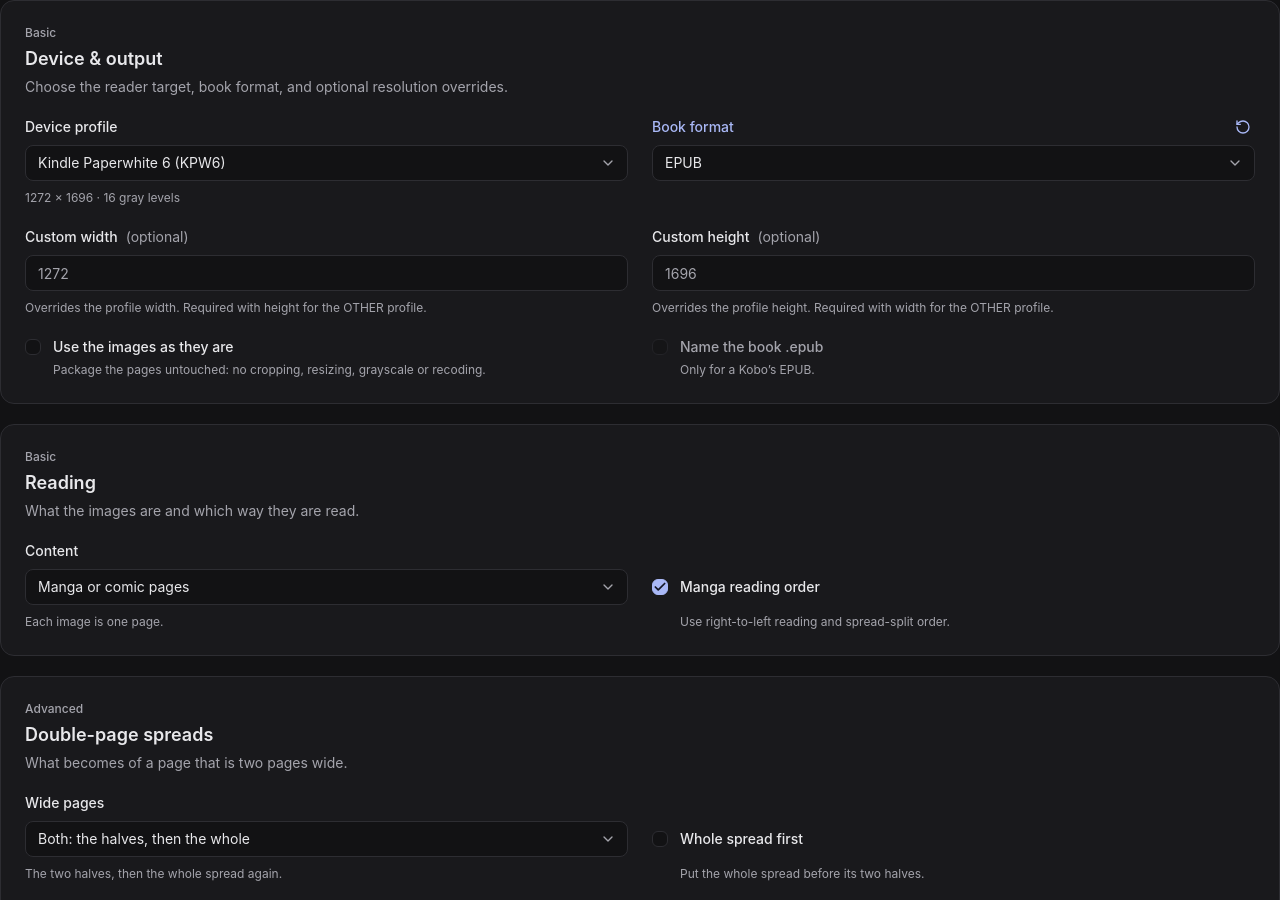
Scenario: mangaprep settings editor › has nothing to rotate while the whole spread stays upright
What coordinates should you click on to do the following:
click the checkbox named "Whole spread first" next to "Whole spread first"
I would click on:
 (660, 839)
Its box is [652, 831, 668, 847].
(page scrolled)
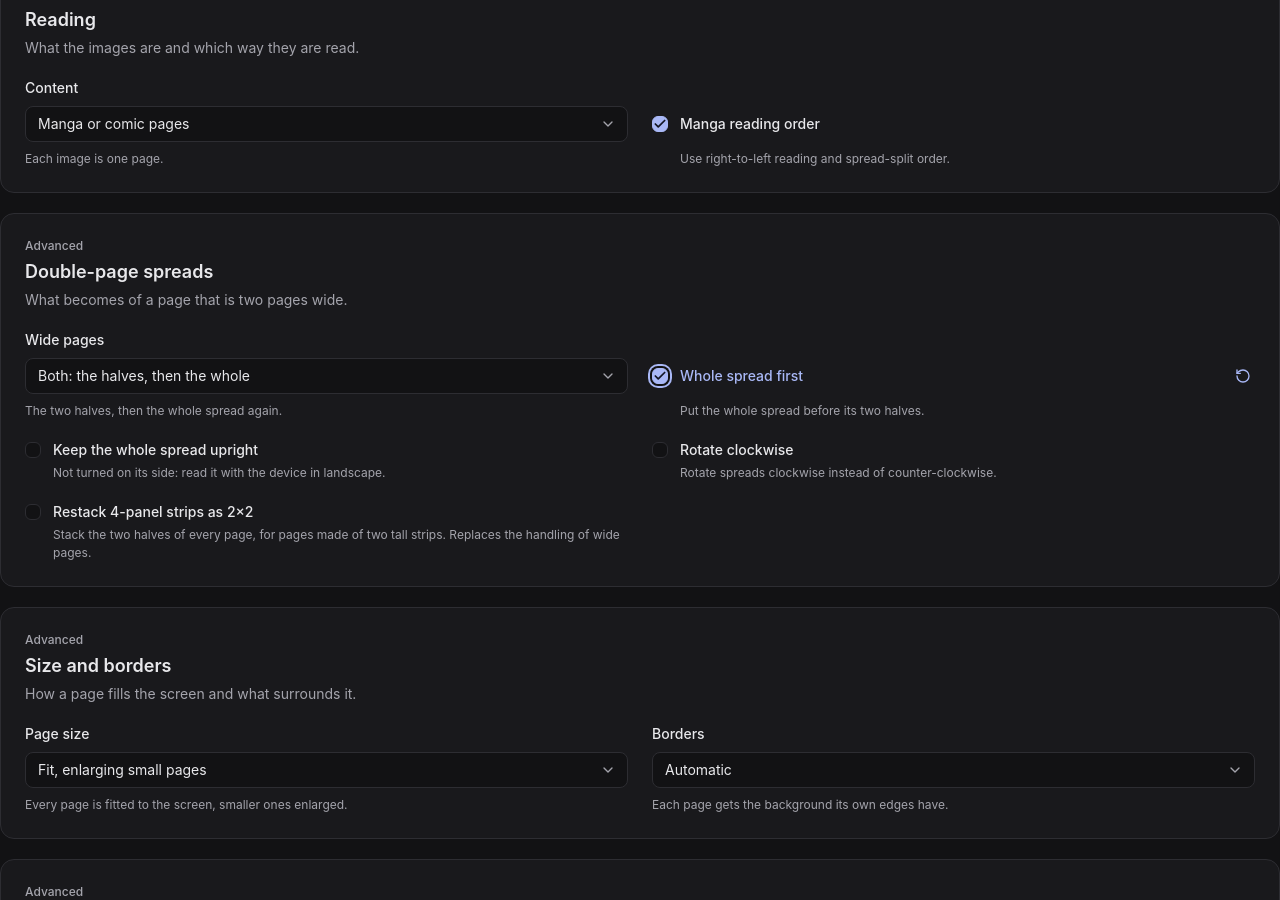
What coordinates should you click on to do the following:
click the checkbox named "Keep the whole spread upright" next to "Keep the whole spread upright"
I would click on:
 (33, 450)
Its box is [25, 442, 41, 458].
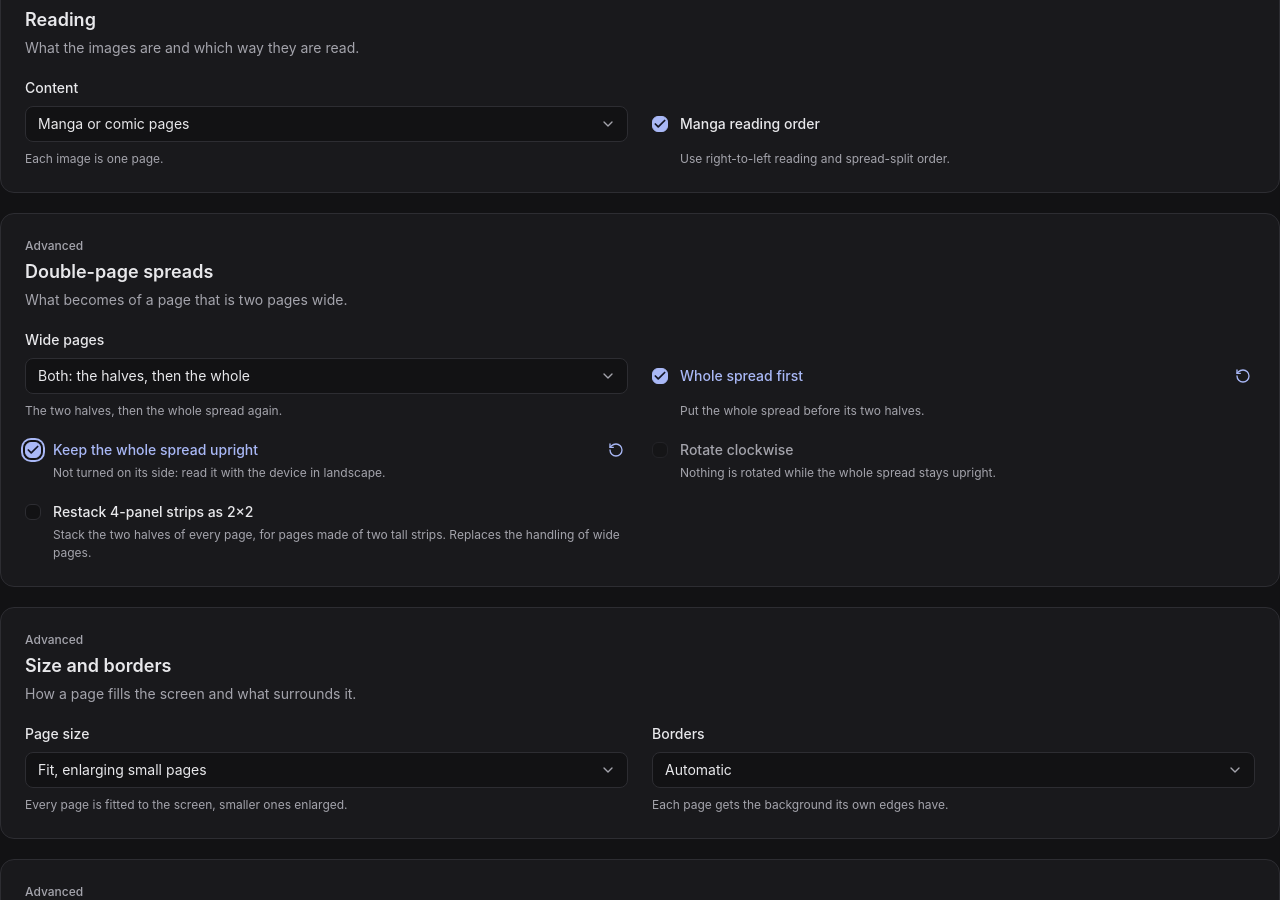
Check: the text "Nothing is rotated while the whole spread stays upright." is shown, box [680, 465, 996, 480]
